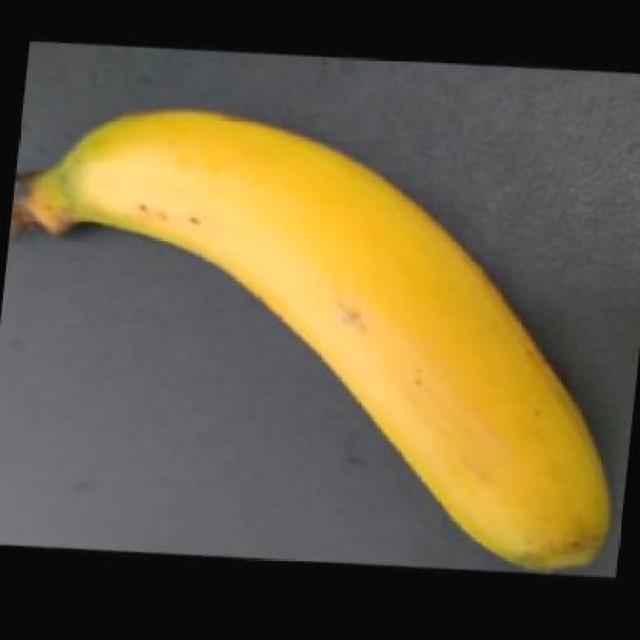Ripe: (11, 92, 640, 587)
